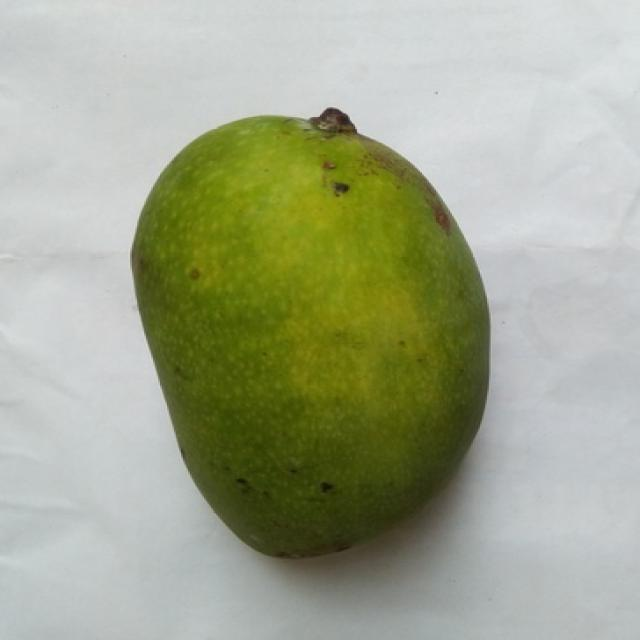Mango: (132, 109, 487, 557)
